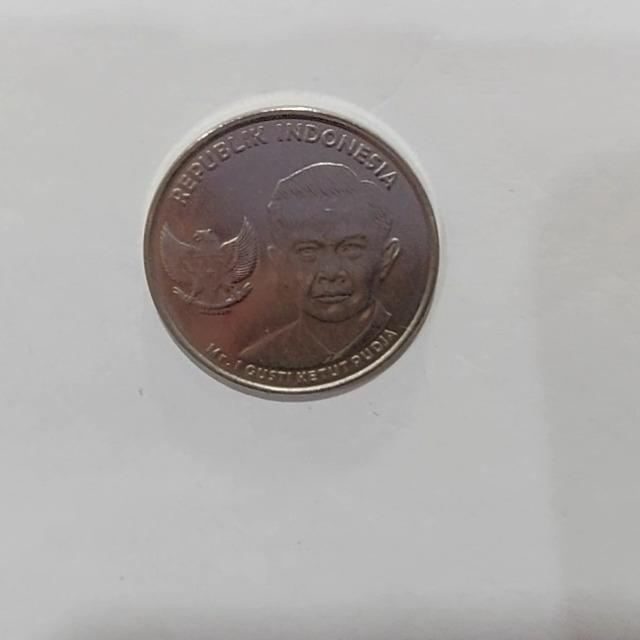Rp100: (142, 97, 441, 399)
